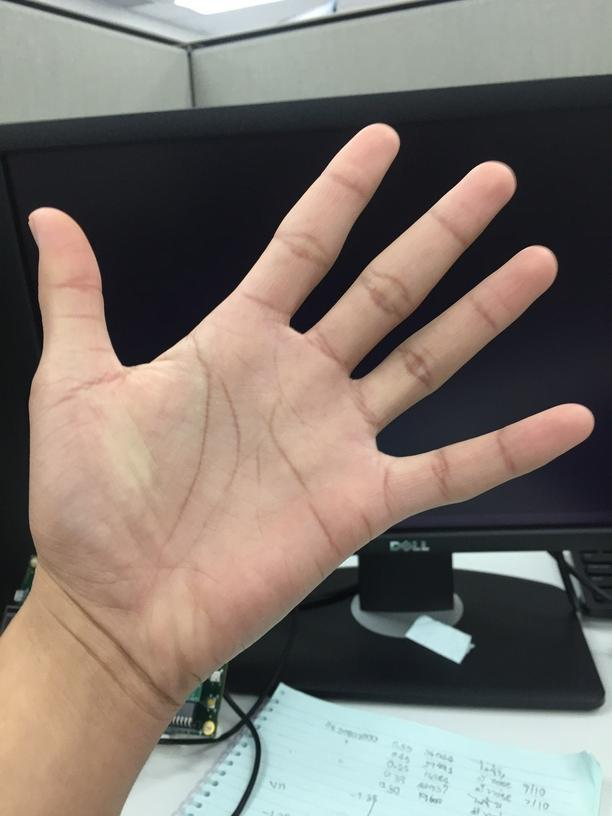hand: (27, 122, 593, 677)
